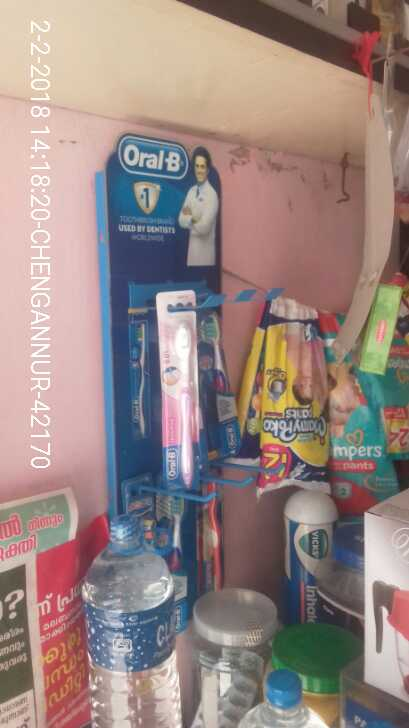pharmacy: (327, 355, 409, 501), (155, 288, 209, 490)
